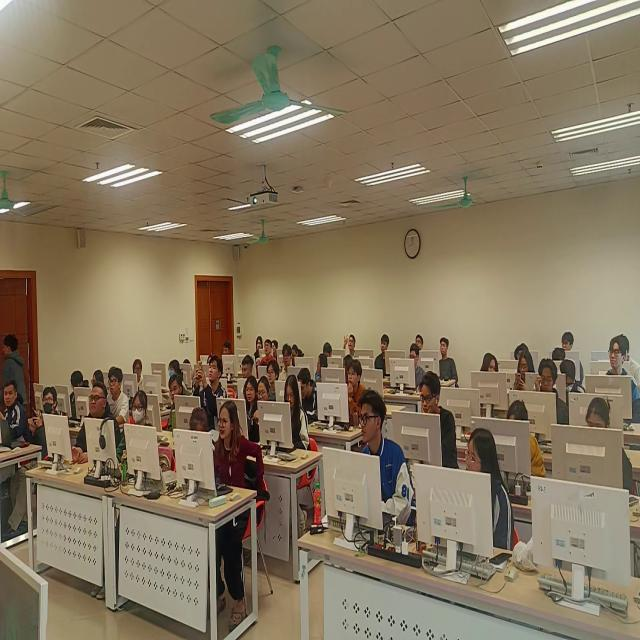raise_head: (213, 400, 264, 624), (5, 384, 60, 542), (359, 389, 416, 533), (466, 424, 515, 559), (420, 371, 461, 470), (74, 381, 122, 465), (117, 389, 152, 470), (1, 378, 32, 445), (344, 357, 367, 427), (108, 363, 131, 421), (167, 374, 188, 431), (243, 374, 259, 442), (440, 336, 461, 386), (374, 333, 391, 376), (279, 342, 296, 381), (269, 353, 280, 396), (559, 327, 577, 351), (261, 338, 277, 364), (259, 376, 272, 404), (254, 333, 265, 358), (415, 333, 426, 350), (273, 334, 278, 354)
stand: (3, 331, 29, 409)
using_computer: (587, 395, 637, 497), (506, 395, 549, 476), (607, 332, 640, 422), (535, 357, 569, 429), (283, 376, 311, 454), (558, 357, 587, 397), (298, 367, 319, 420), (621, 333, 640, 391), (69, 369, 90, 419), (409, 341, 428, 393), (188, 404, 210, 434), (168, 358, 184, 382), (242, 353, 256, 378), (552, 345, 568, 365), (93, 367, 106, 387), (322, 341, 333, 357), (223, 338, 232, 356), (294, 341, 304, 357), (223, 339, 230, 357), (183, 356, 192, 369), (208, 352, 214, 365)
using_phone: (194, 356, 227, 430), (513, 348, 534, 394), (343, 330, 358, 356)
